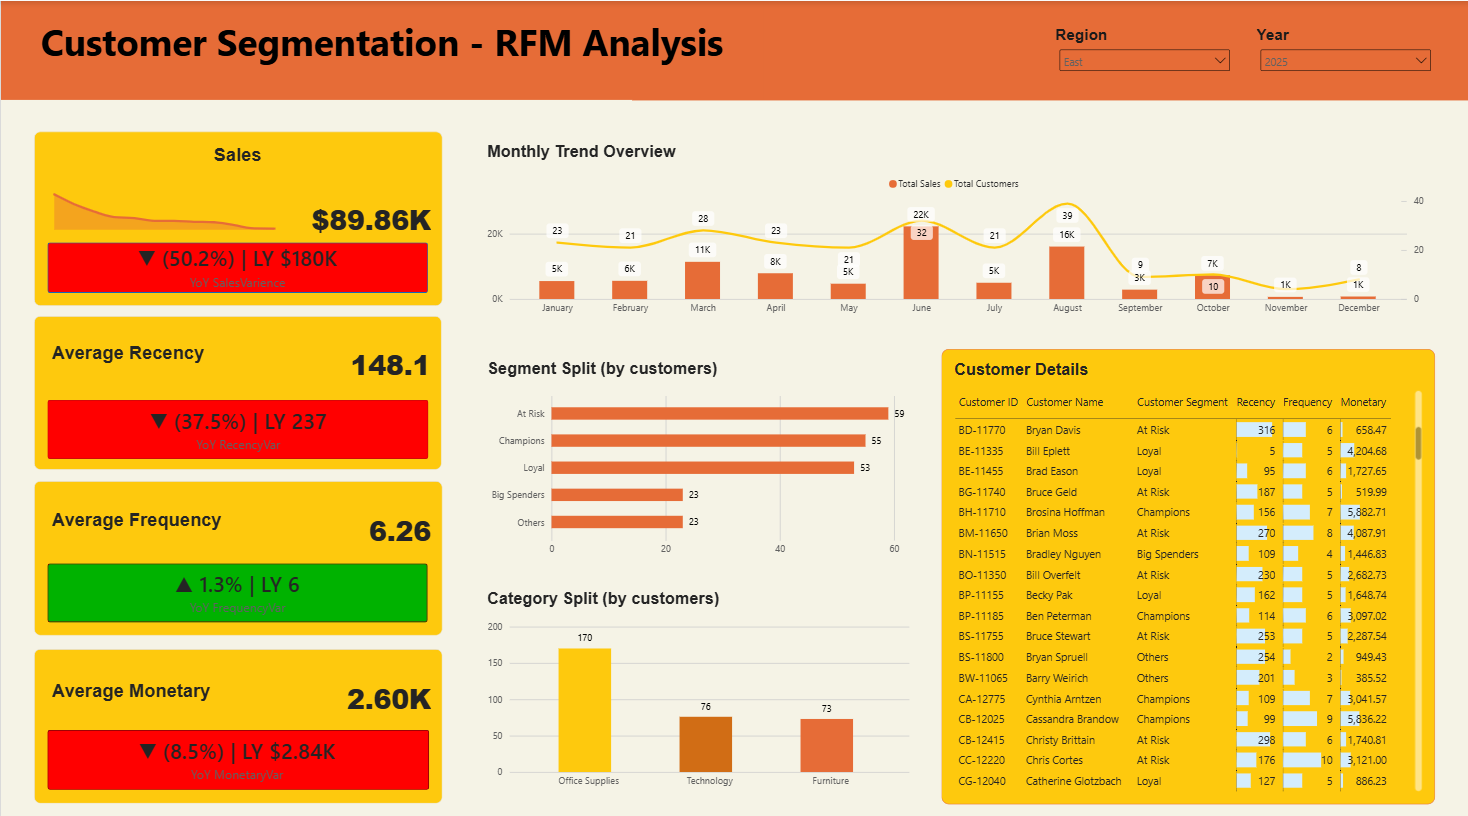

The page's visual inventory and layout, read from the dashboard file:
{"tool":"powerbi","page":{"name":"Customer Segmentation - RFM Analysis","canvas":[1920,1080],"ordinal":0},"visuals":[{"type":"shape","box":[826.7,0,1093.3,130],"z":0},{"type":"textbox","box":[0,0,996.3,129.4],"z":1000},{"type":"cardVisual","title":"Sales","fields":{"Data":["Tbl_Measures.Total Sales"]},"box":[43,170,534,228],"z":2000},{"type":"cardVisual","fields":{"Data":["Tbl_Measures.AvgRecency"]},"box":[43.3,411.7,533.3,201.7],"z":3000},{"type":"cardVisual","fields":{"Data":["Tbl_Measures.AvgFrequency"]},"box":[43,628,534,202],"z":4000},{"type":"cardVisual","fields":{"Data":["Tbl_Measures.AvgMonetary"]},"box":[43,847,534,202],"z":5000},{"type":"shape","box":[61.3,315.7,497.4,65.9],"z":6000},{"type":"cardVisual","fields":{"Data":["Tbl_Measures.YoY SalesVarience"]},"box":[61.3,315.7,497.4,65.9],"z":7000},{"type":"slicer","title":"Year","fields":{"Values":["DateTable.Year"]},"box":[1637.6,22.7,240.9,87.9],"z":8000},{"type":"shape","box":[60,522,498,77],"z":9000},{"type":"cardVisual","fields":{"Data":["Tbl_Measures.YoY RecencyVar"]},"box":[60,522,499,77],"z":10000},{"type":"shape","box":[60.8,736.2,497,77],"z":11000},{"type":"shape","box":[60,953.8,499,78],"z":12000},{"type":"cardVisual","fields":{"Data":["Tbl_Measures.YoY FrequencyVar"]},"box":[60,736.2,497.7,76.9],"z":13000},{"type":"cardVisual","fields":{"Data":["Tbl_Measures.YoY MonetaryVar"]},"box":[60.8,953.8,496.9,78.5],"z":14000},{"type":"lineChart","fields":{"Category":["DateTable.Month Name"],"Y":["Tbl_Measures.Total Sales"]},"box":[43.2,213.5,340.7,102.2],"z":15000},{"type":"lineStackedColumnComboChart","title":"Monthly Trend Overview","fields":{"Category":["DateTable.Month Name"],"Y":["Tbl_Measures.Total Sales"],"Y2":["Tbl_Measures.Total Customers"]},"box":[620,170,1256.7,260],"z":16000},{"type":"clusteredBarChart","title":"Segment Split (by customers)","fields":{"Category":["RFM_Calculation.Customer_Segment"],"Y":["CountNonNull(RFM_Calculation.Customer ID)"]},"box":[620,454.4,584.4,290],"z":17000},{"type":"clusteredColumnChart","title":"Category Split (by customers)","fields":{"Category":["Superstore 2025.Category"],"Y":["Count(Superstore 2025.Customer ID)"]},"box":[620,756,584,294],"z":18000},{"type":"tableEx","title":"Customer Details","fields":{"Values":["RFM_Calculation.Customer ID","RFM_Calculation.Customer Name","RFM_Calculation.Customer_Segment","RFM_Calculation.Recency","RFM_Calculation.Frequency","RFM_Calculation.Monetary"]},"box":[1230,454.4,645.6,595.6],"z":19000},{"type":"slicer","title":"Region","fields":{"Values":["Superstore 2025.Region"]},"box":[1374.1,22.7,240.9,87.9],"z":20000},{"type":"textbox","box":[61.3,186.2,497.4,43.2],"z":21000},{"type":"textbox","box":[61,443,368,40.9],"z":22000},{"type":"textbox","box":[61.5,660.8,377,40.9],"z":23000},{"type":"textbox","box":[61.5,884.6,387,48],"z":24000}]}

Visuals, with their boxes in screenshot pixels (x1, y1, x2, y2), scaled from the page's 1920x1080 canvas onto the 1468x816 screenshot:
shape: x1=632 y1=0 x2=1467 y2=98
textbox: x1=0 y1=0 x2=762 y2=98
"Sales" cardVisual: x1=33 y1=128 x2=441 y2=301
cardVisual - Tbl_Measures.AvgRecency: x1=33 y1=311 x2=441 y2=463
cardVisual - Tbl_Measures.AvgFrequency: x1=33 y1=474 x2=441 y2=627
cardVisual - Tbl_Measures.AvgMonetary: x1=33 y1=640 x2=441 y2=793
shape: x1=47 y1=239 x2=427 y2=288
cardVisual - Tbl_Measures.YoY SalesVarience: x1=47 y1=239 x2=427 y2=288
"Year" slicer: x1=1252 y1=17 x2=1436 y2=84
shape: x1=46 y1=394 x2=427 y2=453
cardVisual - Tbl_Measures.YoY RecencyVar: x1=46 y1=394 x2=427 y2=453
shape: x1=46 y1=556 x2=426 y2=614
shape: x1=46 y1=721 x2=427 y2=780
cardVisual - Tbl_Measures.YoY FrequencyVar: x1=46 y1=556 x2=426 y2=614
cardVisual - Tbl_Measures.YoY MonetaryVar: x1=46 y1=721 x2=426 y2=780
lineChart - DateTable.Month Name x Tbl_Measures.Total Sales: x1=33 y1=161 x2=294 y2=239
"Monthly Trend Overview" lineStackedColumnComboChart: x1=474 y1=128 x2=1435 y2=325
"Segment Split (by customers)" clusteredBarChart: x1=474 y1=343 x2=921 y2=562
"Category Split (by customers)" clusteredColumnChart: x1=474 y1=571 x2=921 y2=793
"Customer Details" tableEx: x1=940 y1=343 x2=1434 y2=793
"Region" slicer: x1=1051 y1=17 x2=1235 y2=84
textbox: x1=47 y1=141 x2=427 y2=173
textbox: x1=47 y1=335 x2=328 y2=366
textbox: x1=47 y1=499 x2=335 y2=530
textbox: x1=47 y1=668 x2=343 y2=705
